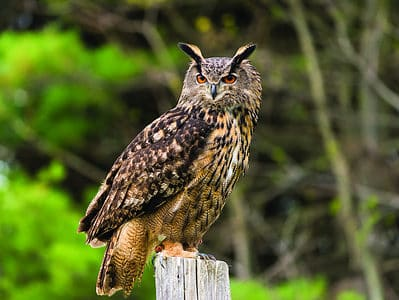owl: (65, 41, 260, 284)
